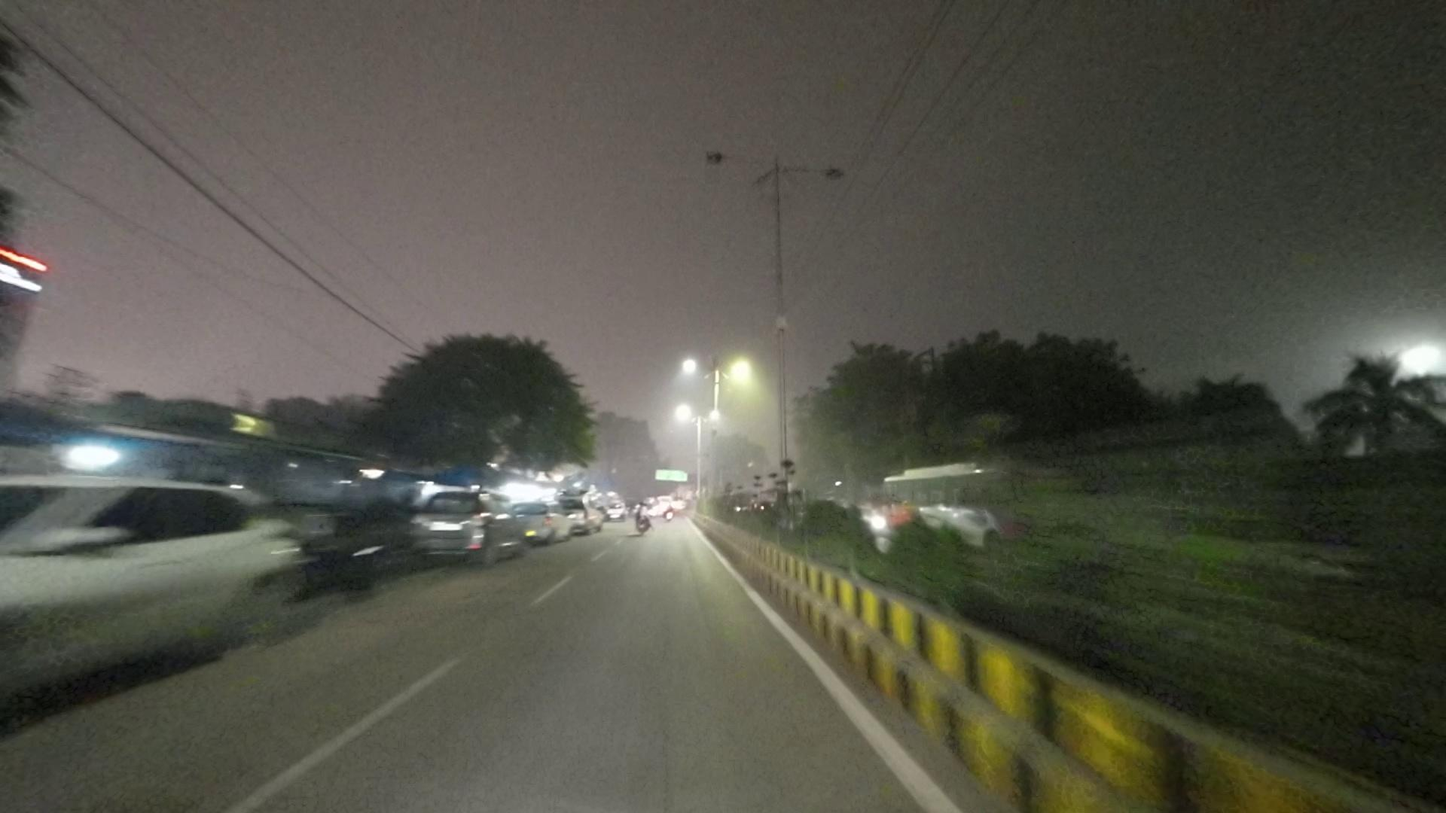streetlight: (704, 150, 773, 170), (781, 163, 846, 181)
